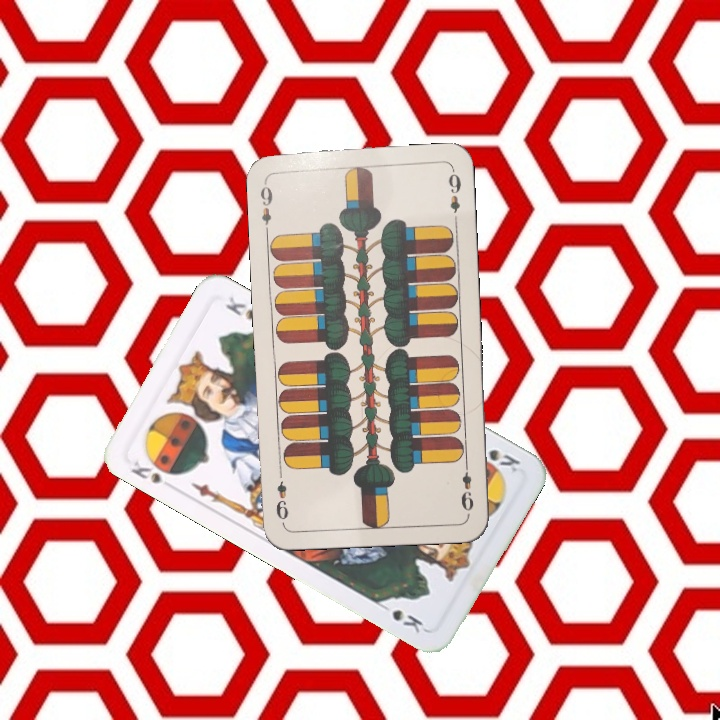E9: (256, 176, 275, 235), (457, 457, 477, 513)
SK: (126, 452, 181, 487), (474, 445, 523, 475)
